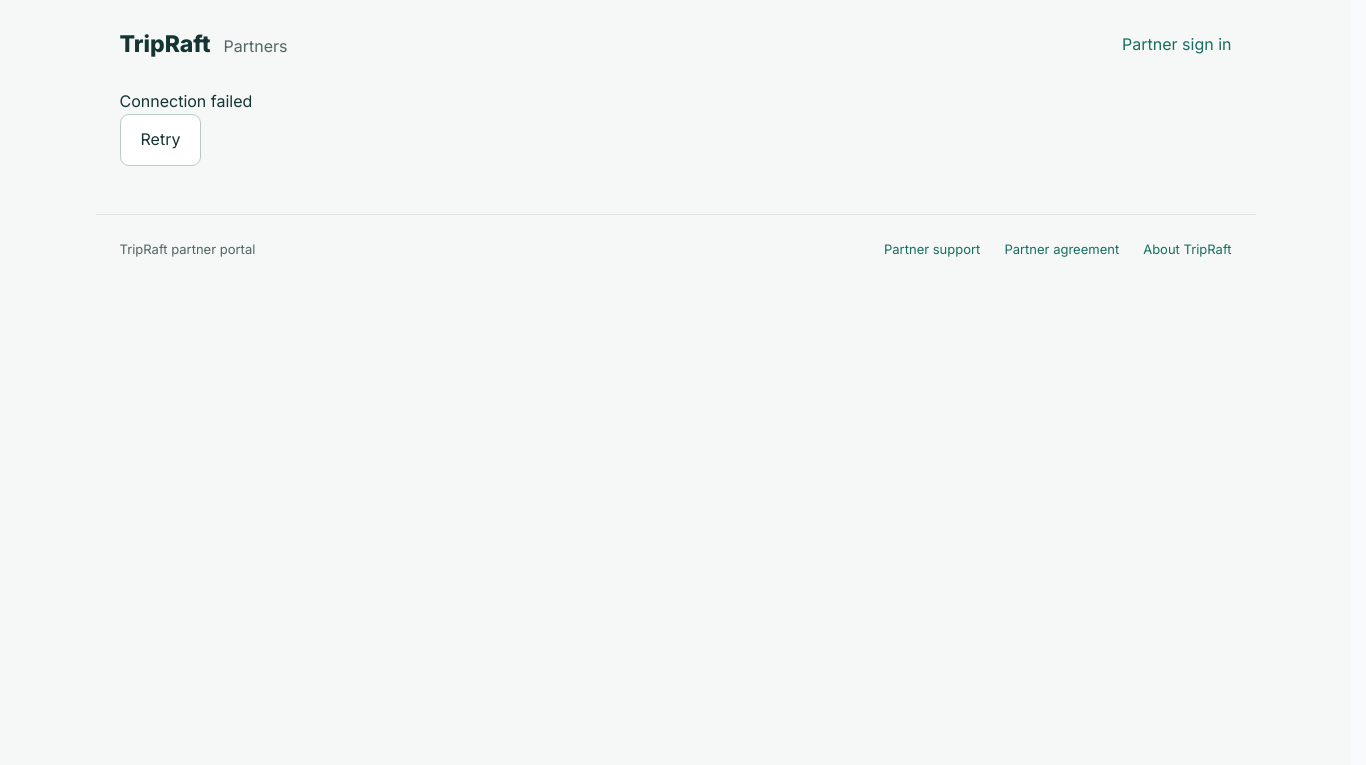
Test case: status failure offers a retry instead of redirecting an unknown session
The width and height of the screenshot is (1366, 765).
Expected: the message shows "Connection failed", [120,91,252,111]
Step 1. Click the button "Retry" → {"x": 160, "y": 140}, box [120,114,201,166]
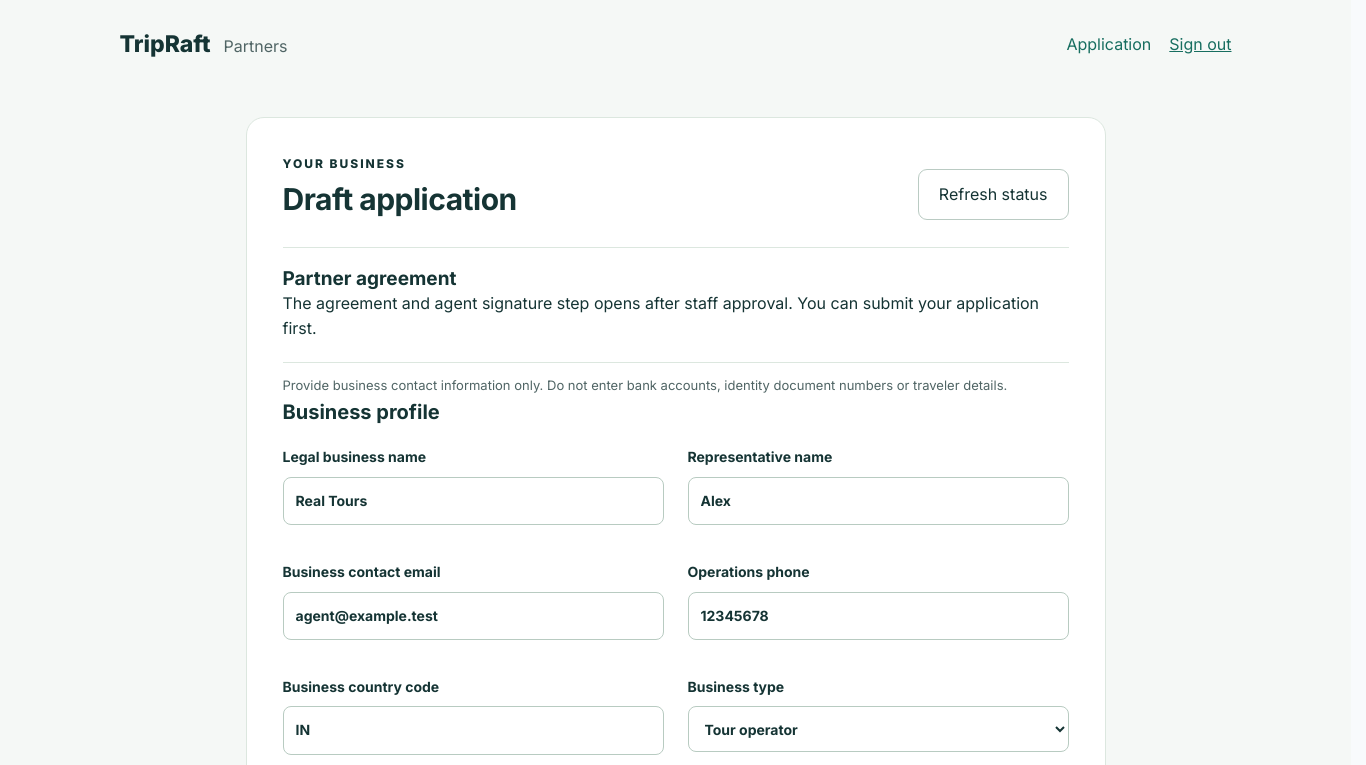
Result: the heading "Draft application" is shown at [282,181,517,217]
